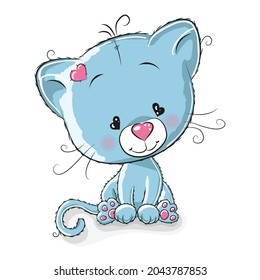cat: (41, 12, 218, 239)
